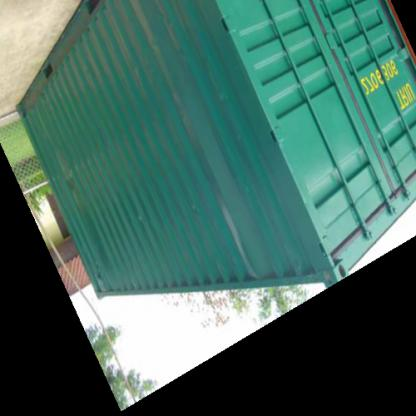Damage: (86, 1, 189, 79), (208, 189, 262, 286), (51, 150, 101, 197), (129, 214, 147, 236)
